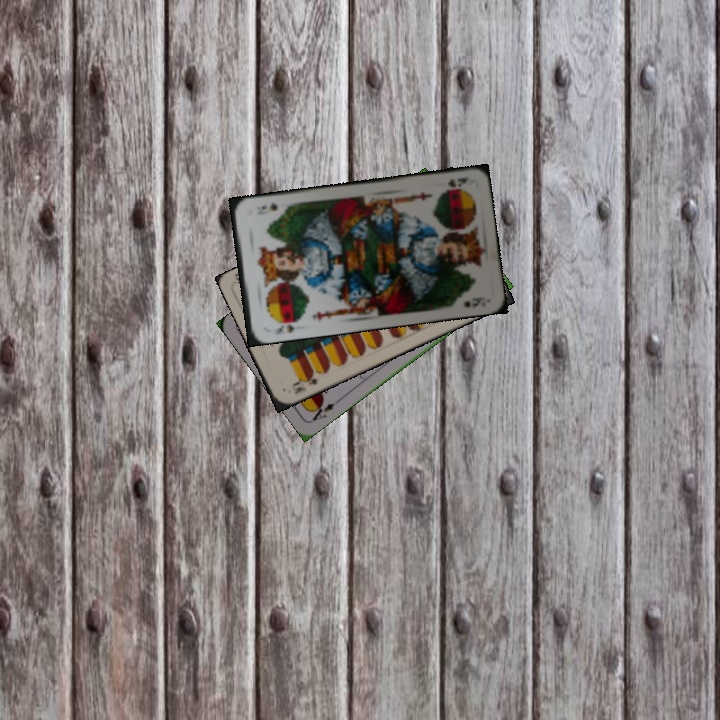E10: (288, 368, 321, 397)
EA: (307, 395, 343, 424)
SK: (271, 315, 301, 336), (442, 173, 471, 193)
